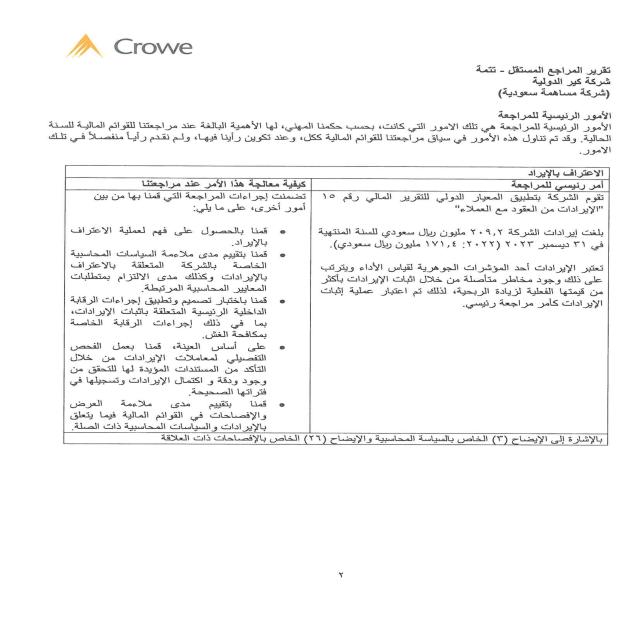auditor_report: (470, 59, 612, 78)
